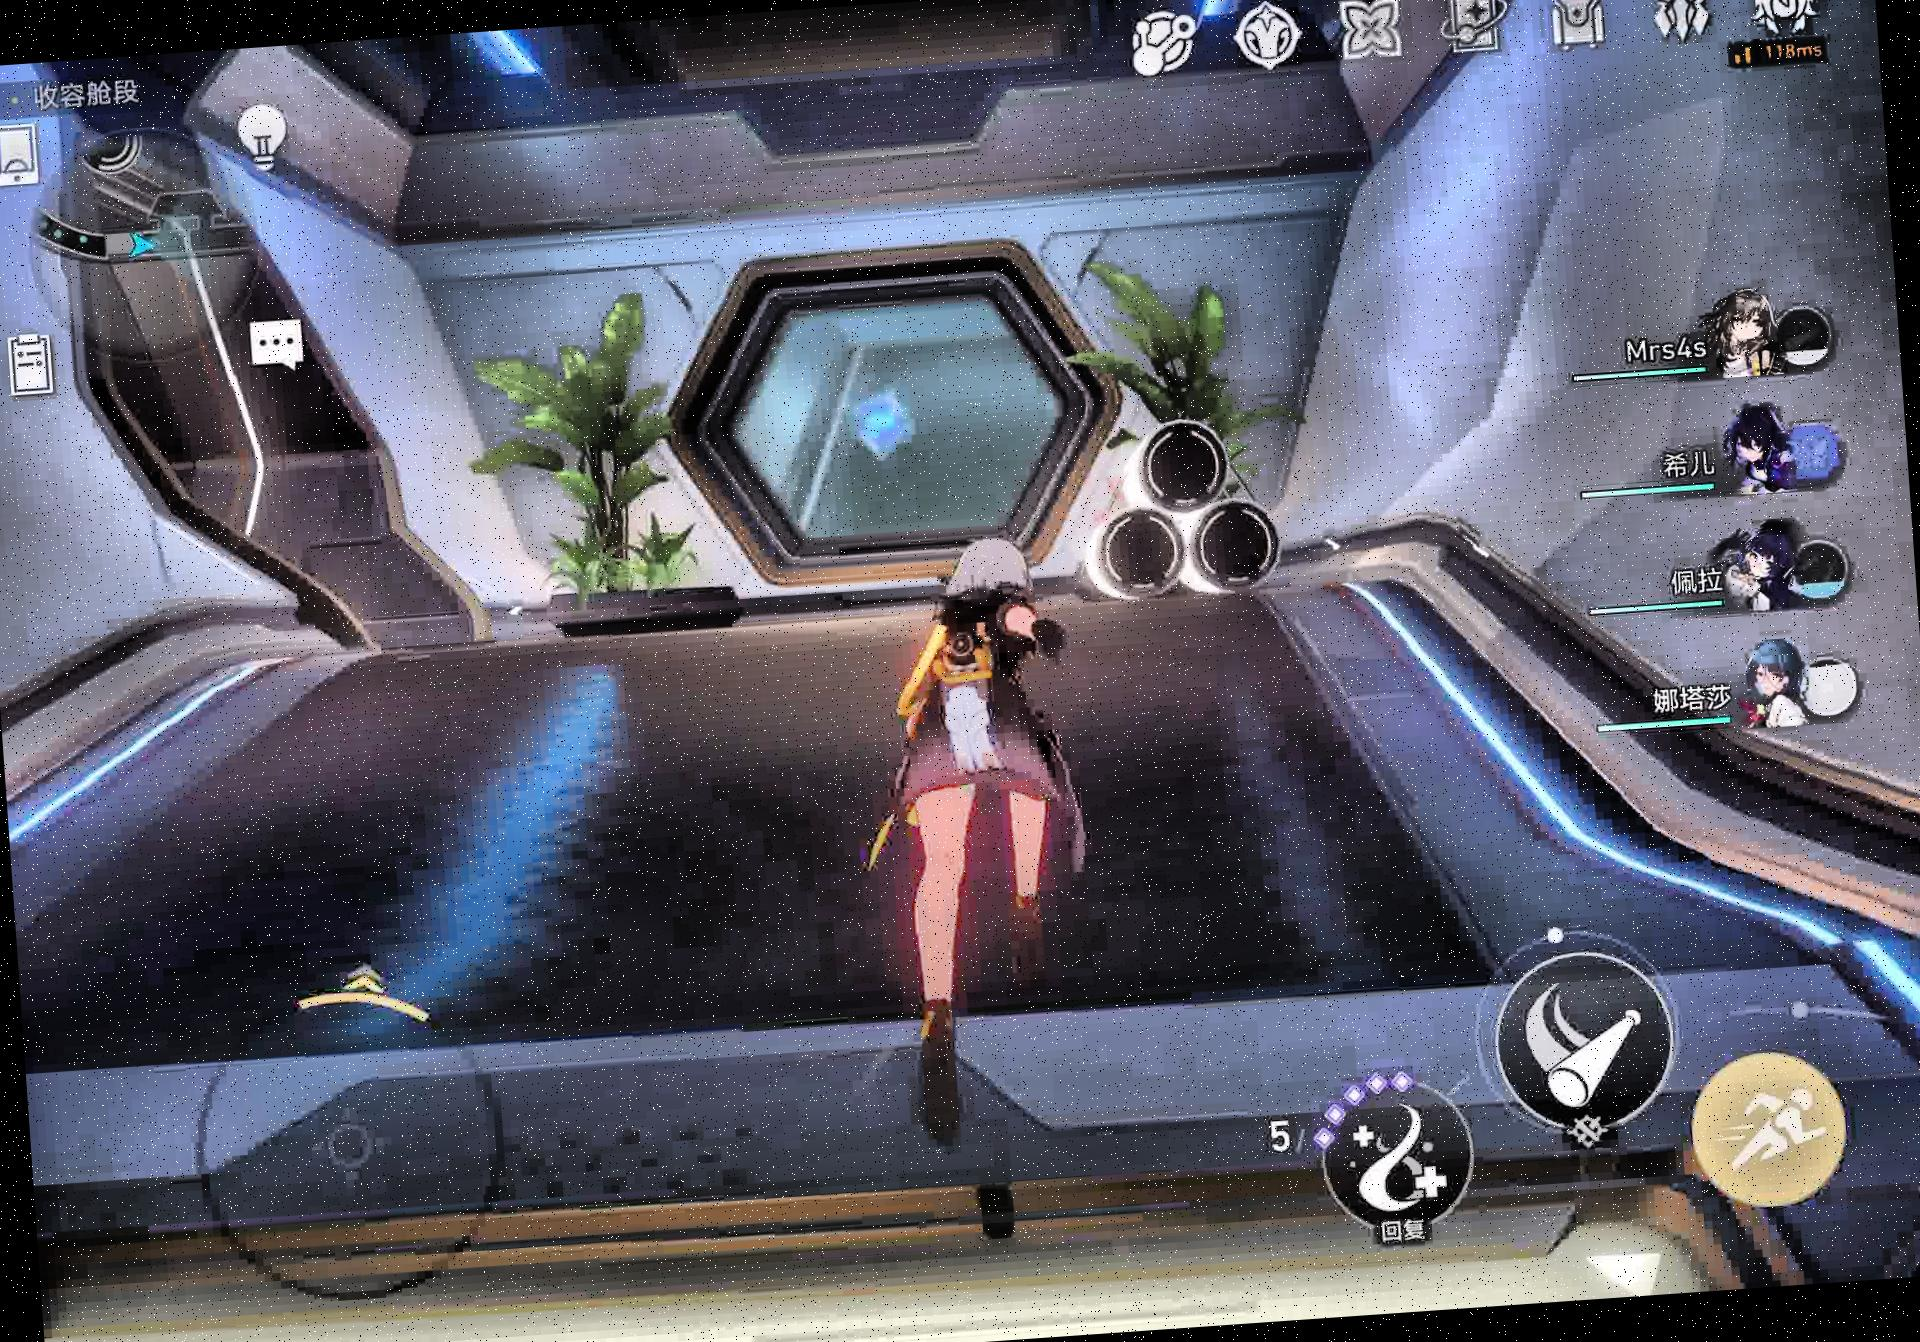Box: (1069, 413, 1294, 626)
Self: (849, 524, 1084, 1142)
